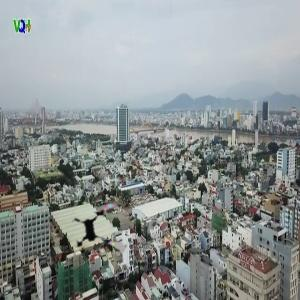drone: (67, 200, 134, 267)
